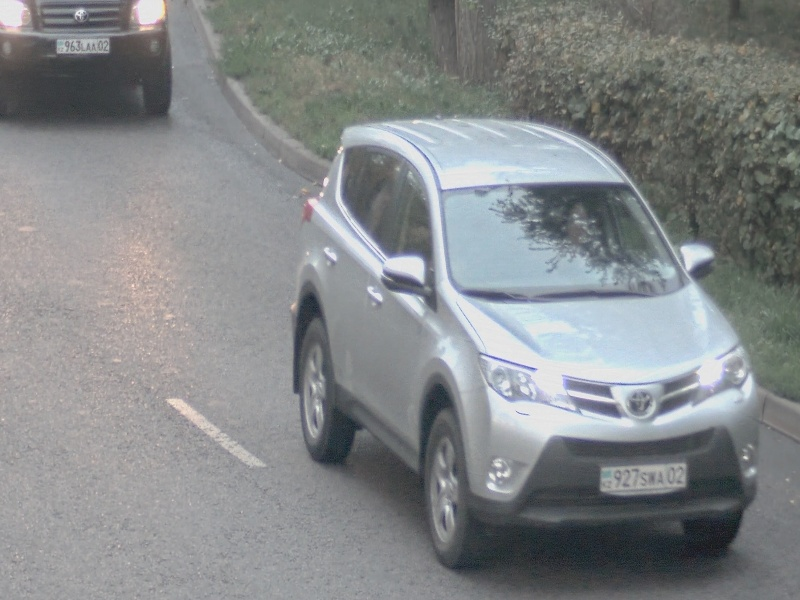plate: (599, 460, 688, 494), (56, 37, 111, 55)
